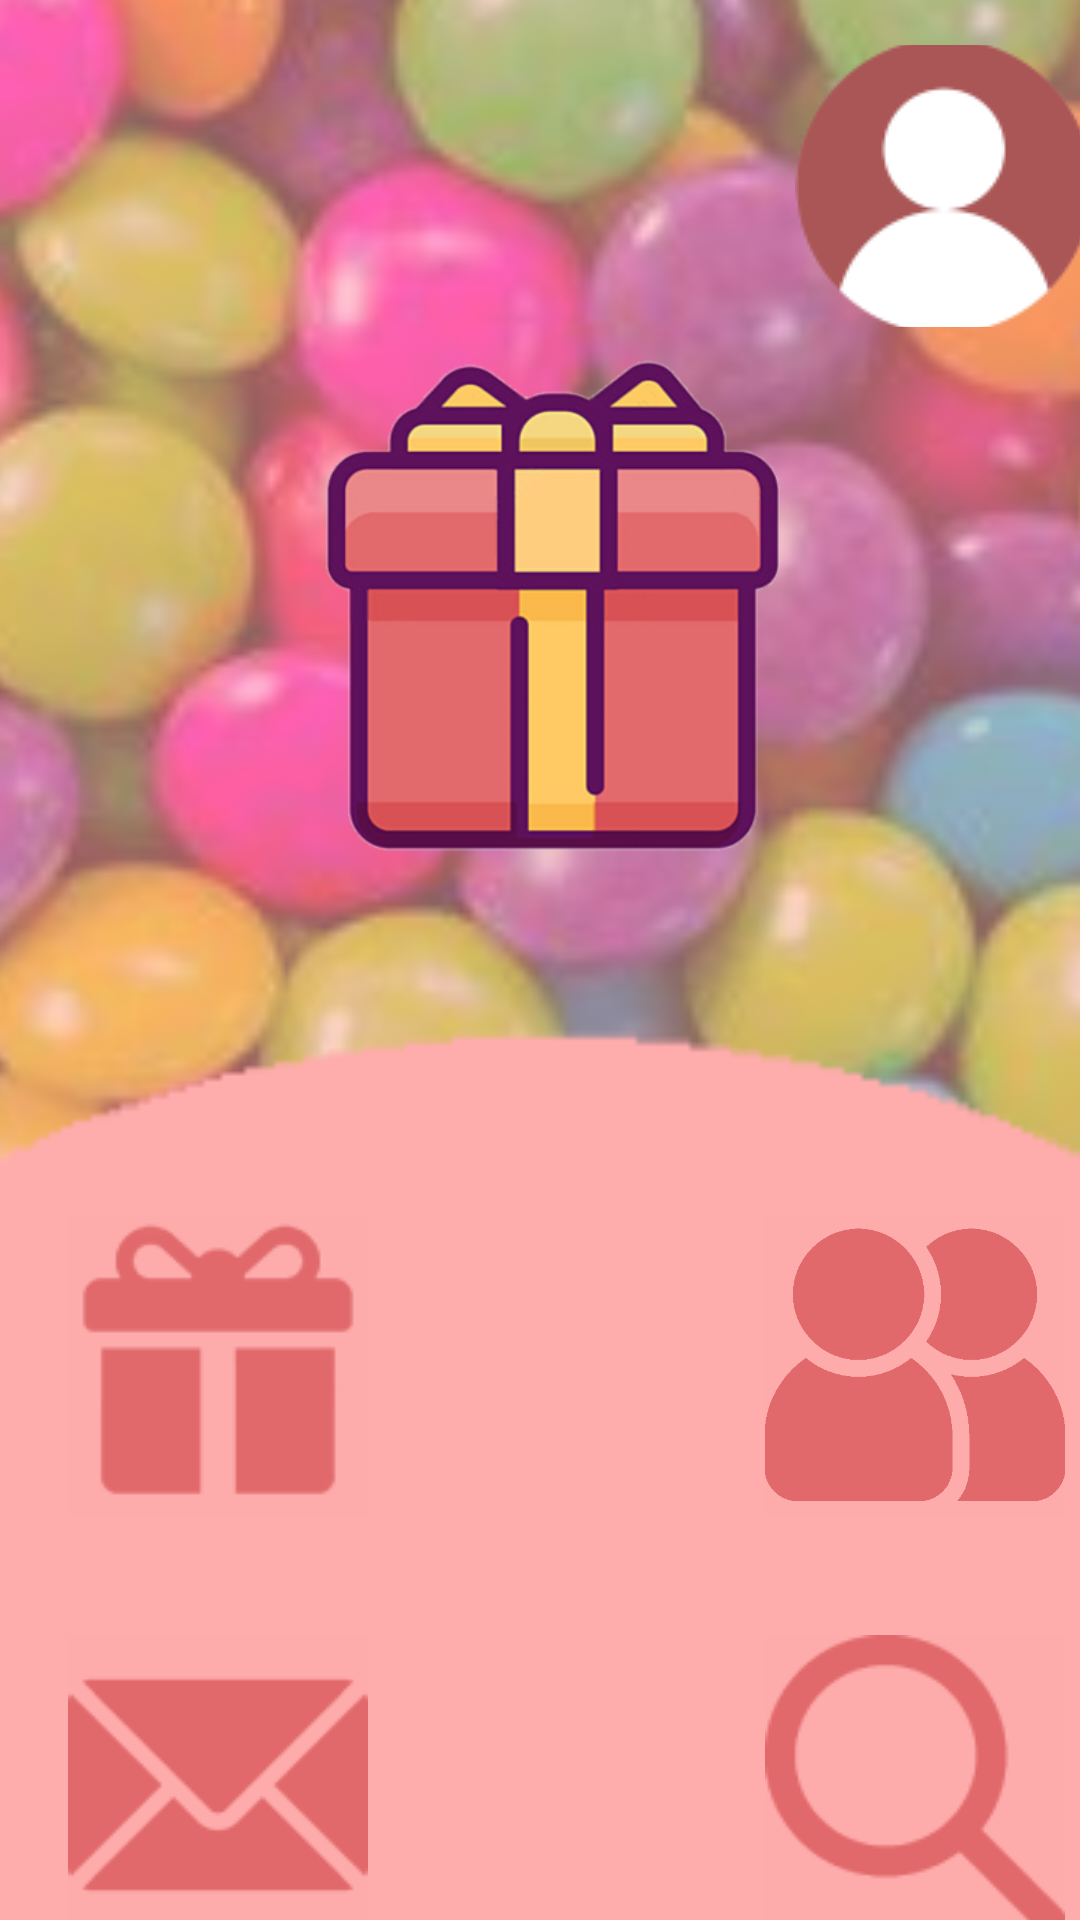

Named icons in this screenshot (1080 x 1920) and their centers, (x,y):
email: (218,1785)
friends: (915,1364)
giftbox: (218,1360)
search: (915,1777)
usuario peque: (933,186)
